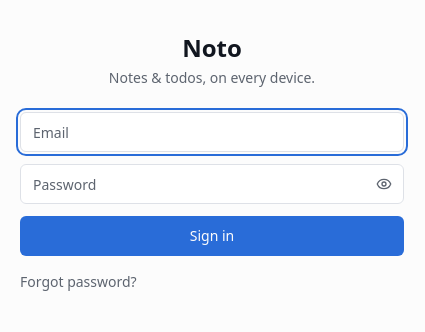
LoginPage › shows an invalid-credential error from the backend
In the field labelled "Email": (212, 132) [20,112,404,152], type "demo@noto.local"
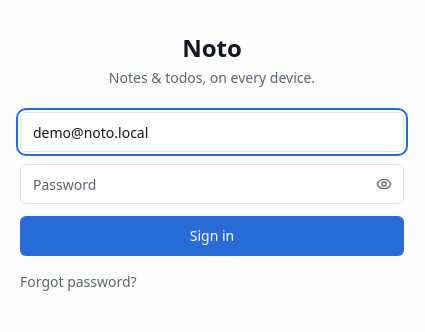
In the password field labelled "Password": (212, 184) [20,164,404,204], type "wrong-password"
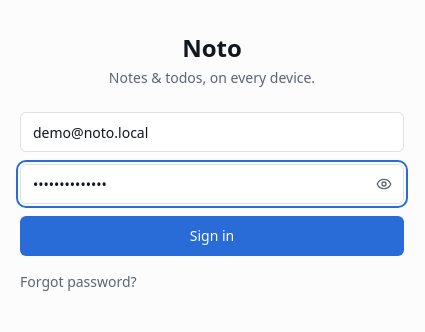
Click the button "Sign in": (212, 236) [20,216,404,256]
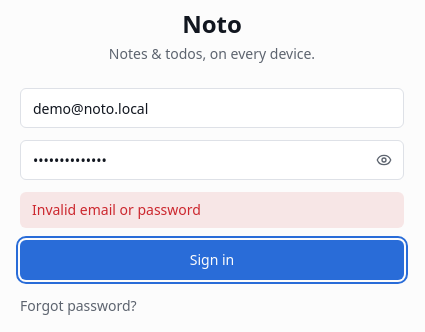
Expected: the text "Invalid email or password" is shown, [20,192,404,228]
